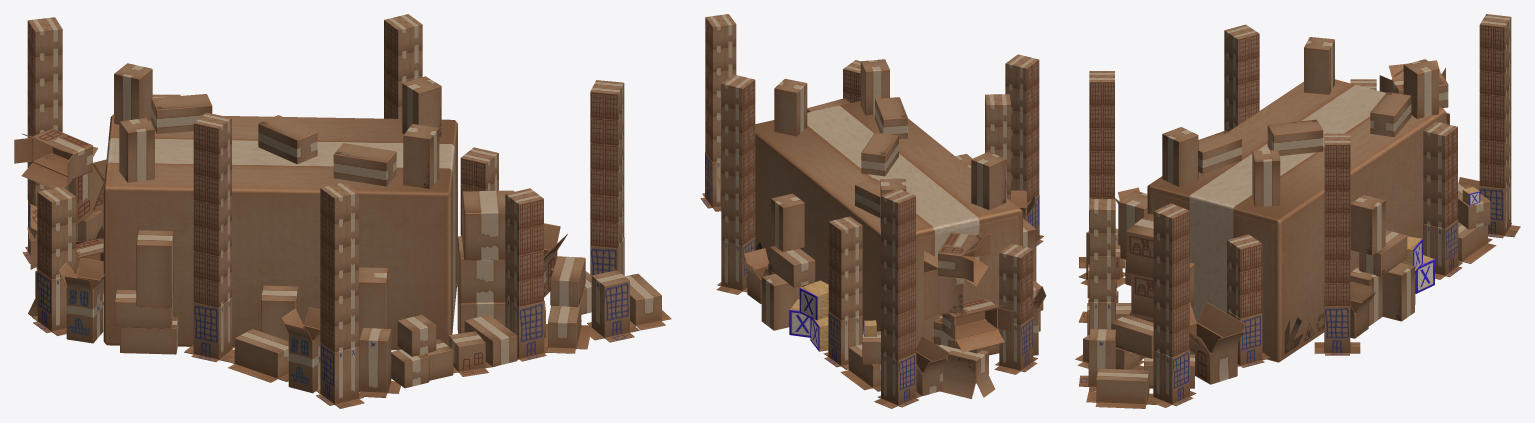
Rendered from S5_Revised.fbx.
The picture shows the model from 3 angles, left to right: view 1: azimuth 30°, elevation 25°; view 2: azimuth 150°, elevation 25°; view 3: azimuth 270°, elevation 25°; orthographic projection. The views are drawn at different scales.
Parts seen in each view (by area): view 1: Tall_Closed_Box_low_29; view 2: Tall_Closed_Box_low_29; view 3: Tall_Closed_Box_low_29.
Boxes of the visible parts, <box> form: Tall_Closed_Box_low_29: <box>14,14,671,408</box>; Tall_Closed_Box_low_29: <box>700,14,1046,408</box>; Tall_Closed_Box_low_29: <box>1075,14,1520,408</box>.
Size of the model in its own units: 19503 by 9419 by 17107.
